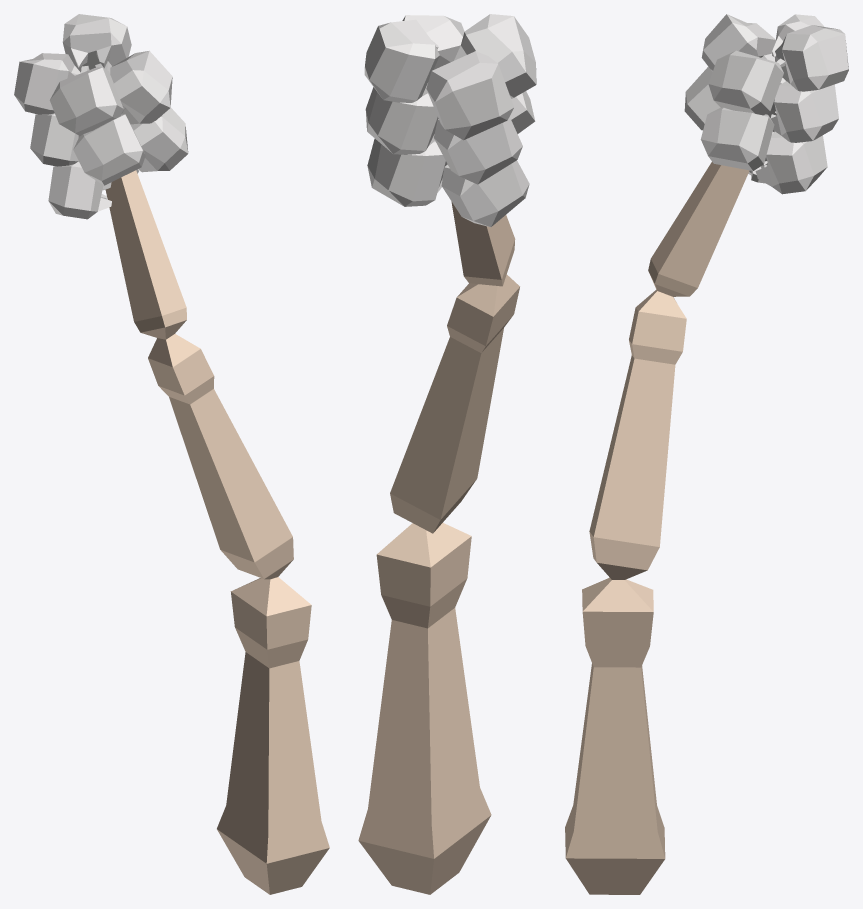
Rendered from Toothflower.fbx.
3 views of the same model, side by side, from view 1: azimuth 30°, elevation 25°; view 2: azimuth 150°, elevation 25°; view 3: azimuth 270°, elevation 25° (orthographic). The views are drawn at different scales.
Visible parts, largest first — view 1: Flower Teeth; view 2: Flower Teeth; view 3: Flower Teeth.
Boxes of the visible parts, x1=… form: Flower Teeth: x1=14, y1=14, x2=329, y2=894; Flower Teeth: x1=358, y1=14, x2=536, y2=894; Flower Teeth: x1=565, y1=14, x2=848, y2=894.
Size of the model in its own units: 23.74 by 94.53 by 29.69.
